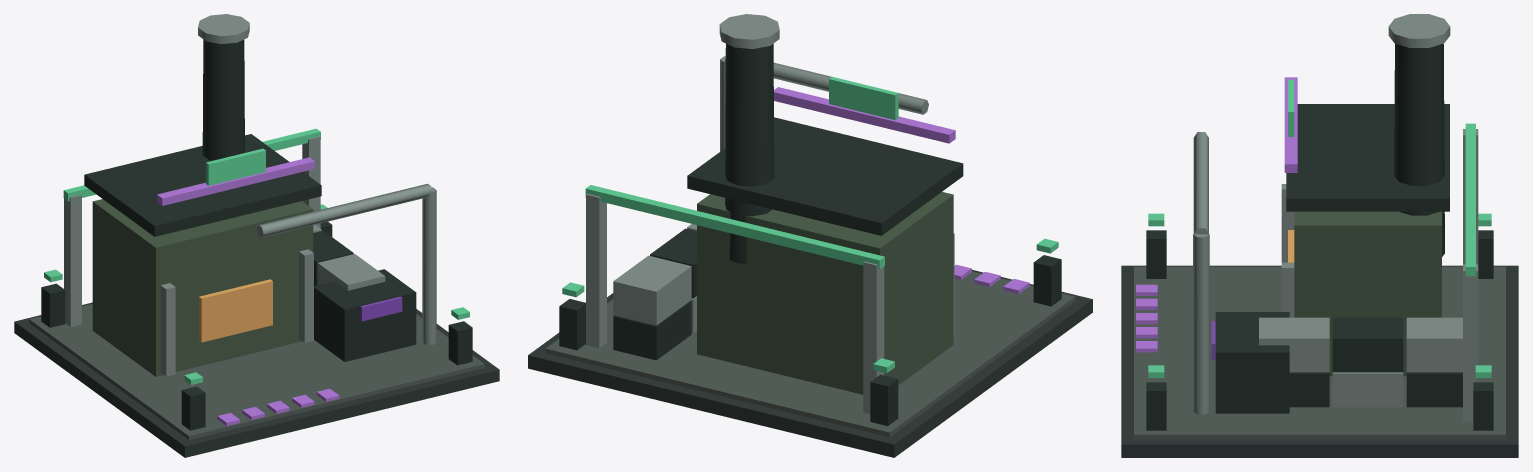
The model's file is highland_l05.glb.
3 renders of one model, left to right at view 1: azimuth 30°, elevation 25°; view 2: azimuth 150°, elevation 25°; view 3: azimuth 270°, elevation 25°, orthographic. The views are drawn at different scales.
Visible parts, largest first — view 1: highland_l05; view 2: highland_l05; view 3: highland_l05.
Part boxes in pixels (bbox=[...]): highland_l05: bbox=[14, 14, 499, 457]; highland_l05: bbox=[528, 14, 1092, 457]; highland_l05: bbox=[1121, 14, 1518, 457].
Bounding box in the file's own units: 6.6 × 5.98 × 6.2.
